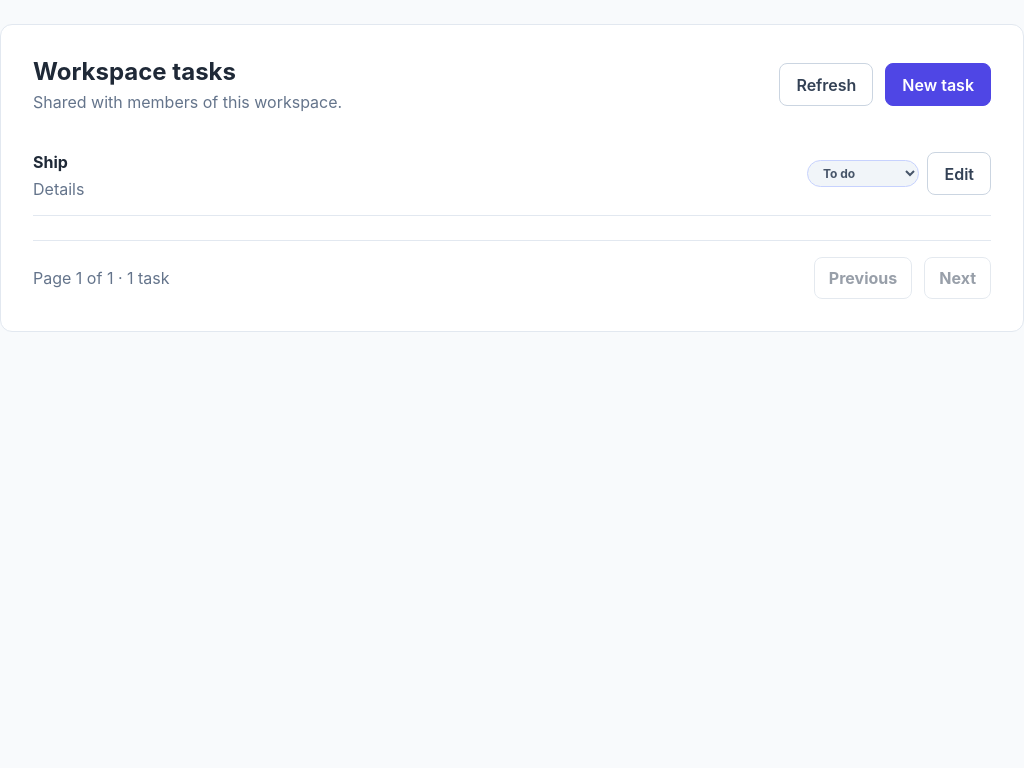
Test: WorkspaceTasksPanel › preserves an edit after failure and applies a successful retry
Click the button with aria-label "Edit Ship" at (959, 174), box [928,152,991,195]
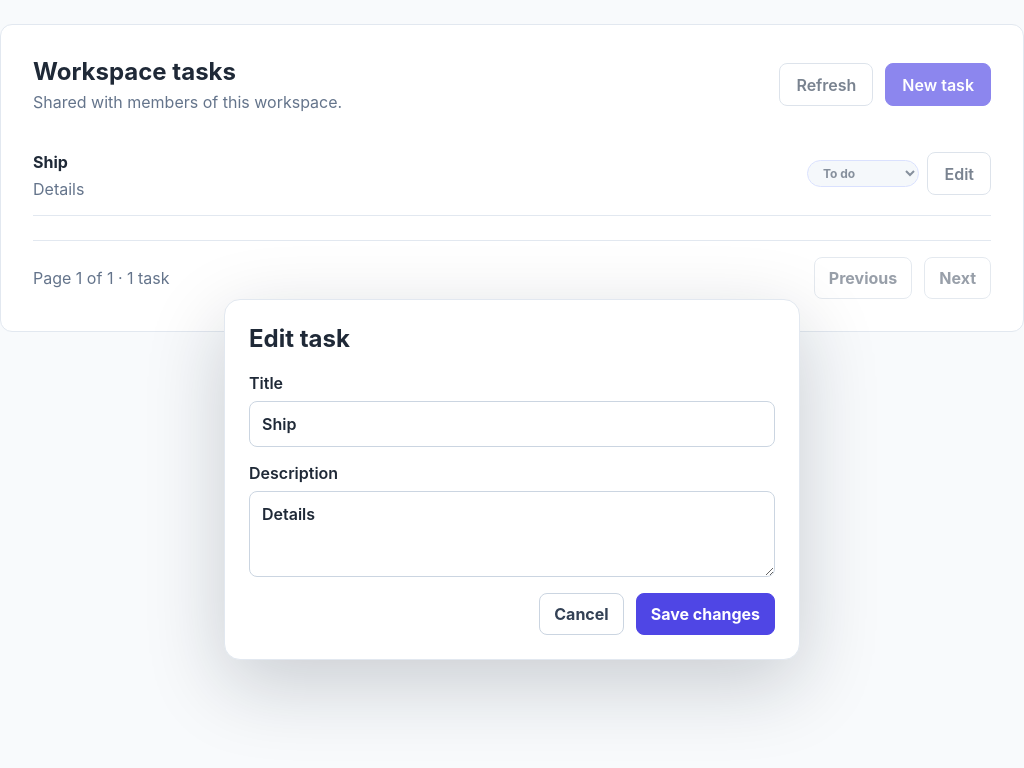
Replace the text in the field labelled "Title" with "  Revised task  " at (512, 424), box [249,401,775,447]
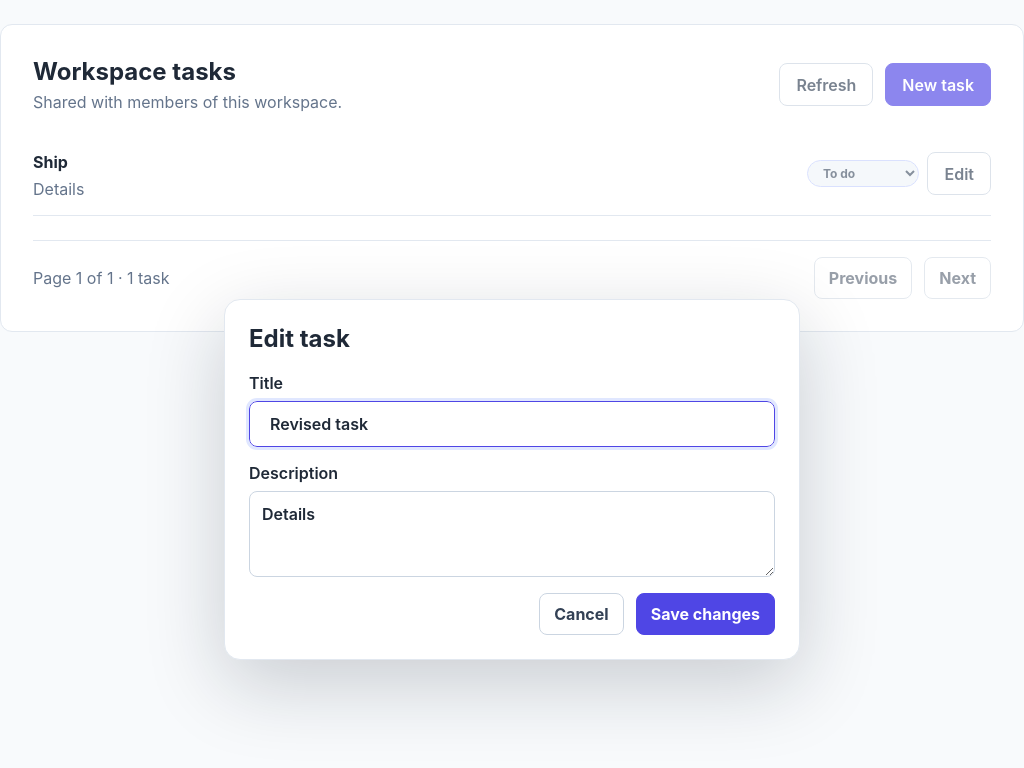
Clear the text box labelled "Description" at (512, 534), box [249,491,775,577]
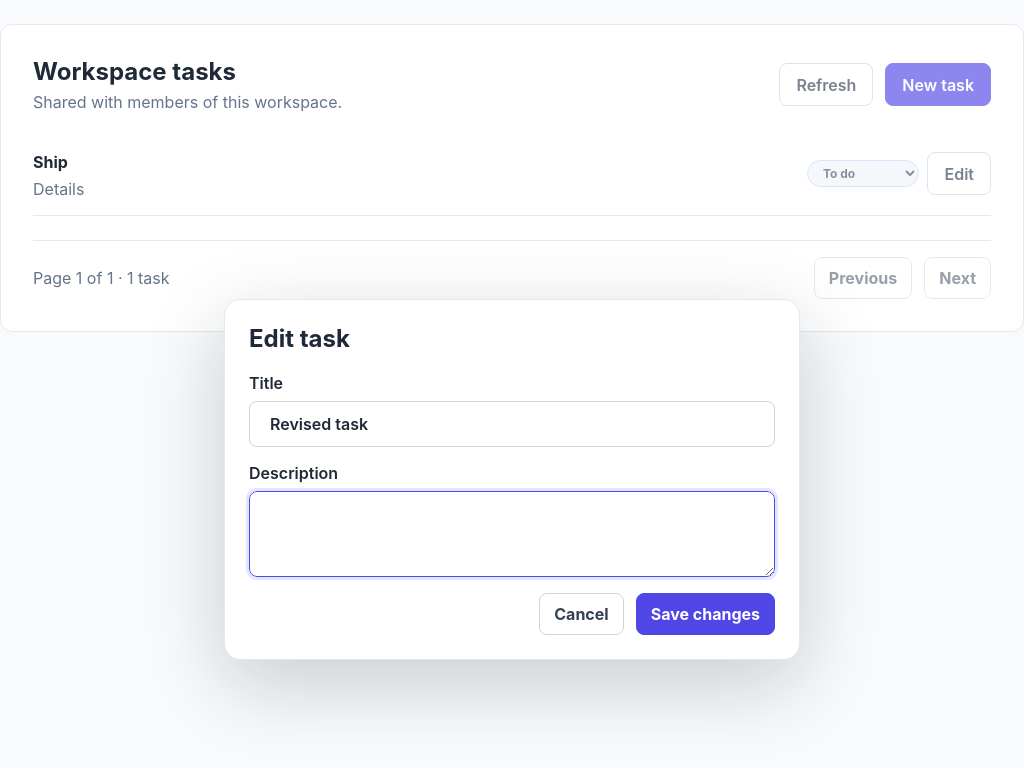
Click the button "Save changes" at (705, 614), box [636,593,775,635]
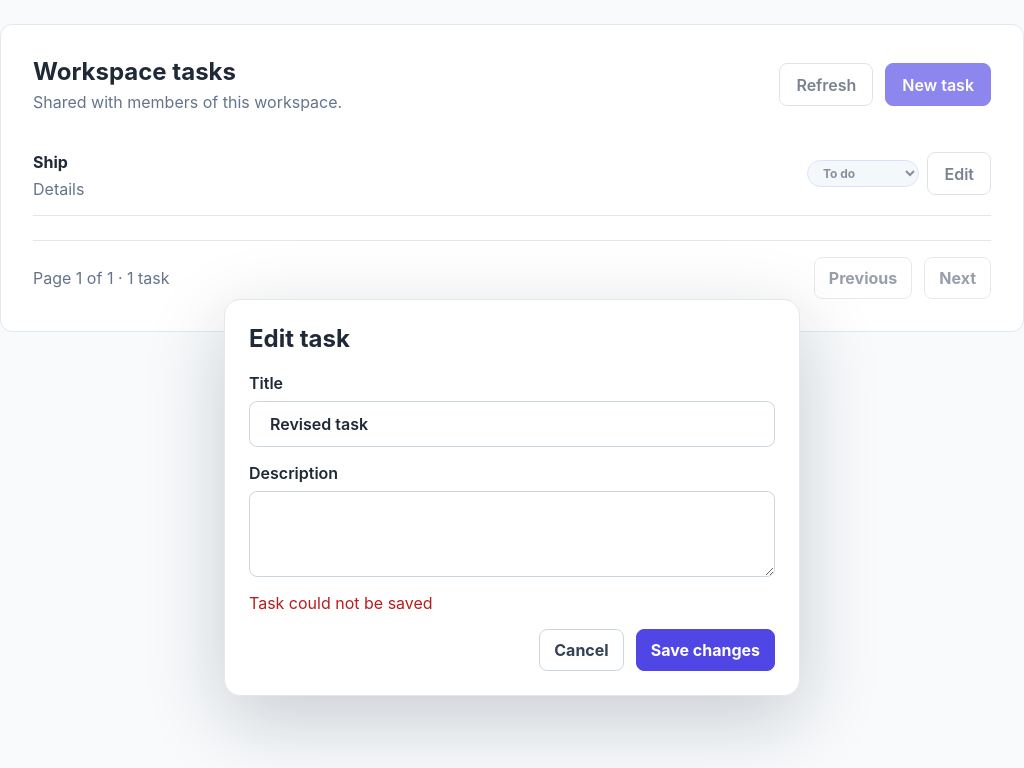
Expected: the message reads "Task could not be saved", [249,593,433,613]
Click the button "Save changes" at (705, 650), box [636,629,775,671]
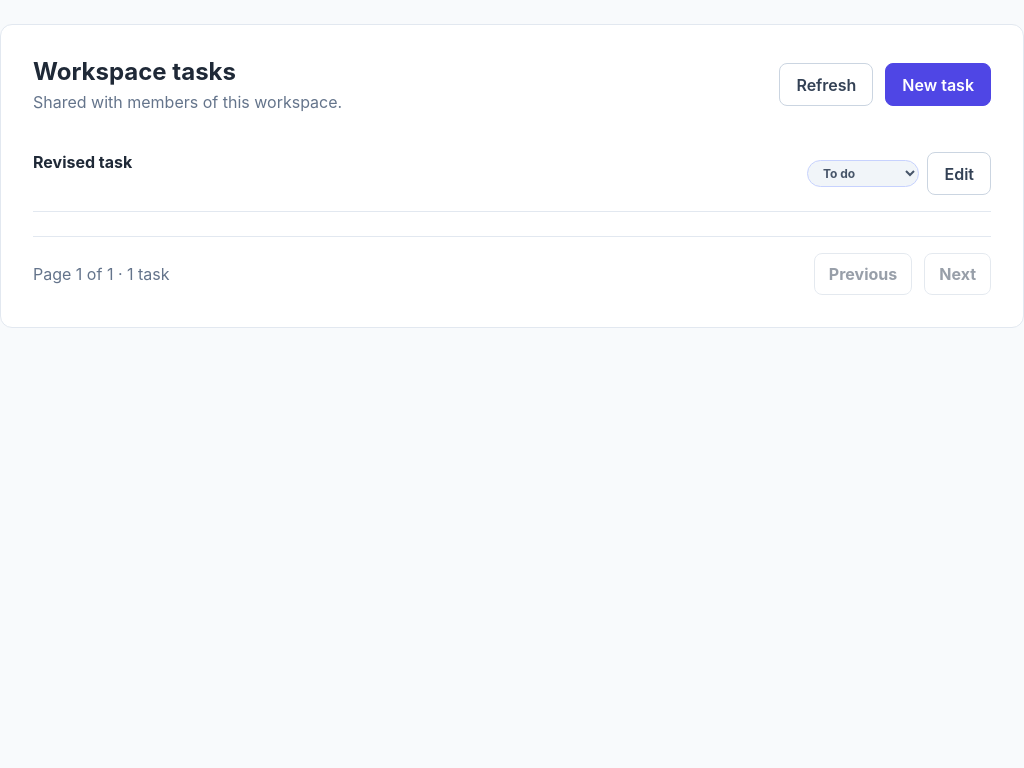
Expected: the dropdown named "Status for Revised task" shows "To do", [808,160,920,187]
Expected: the heading "Revised task" is shown, [33,152,132,172]
